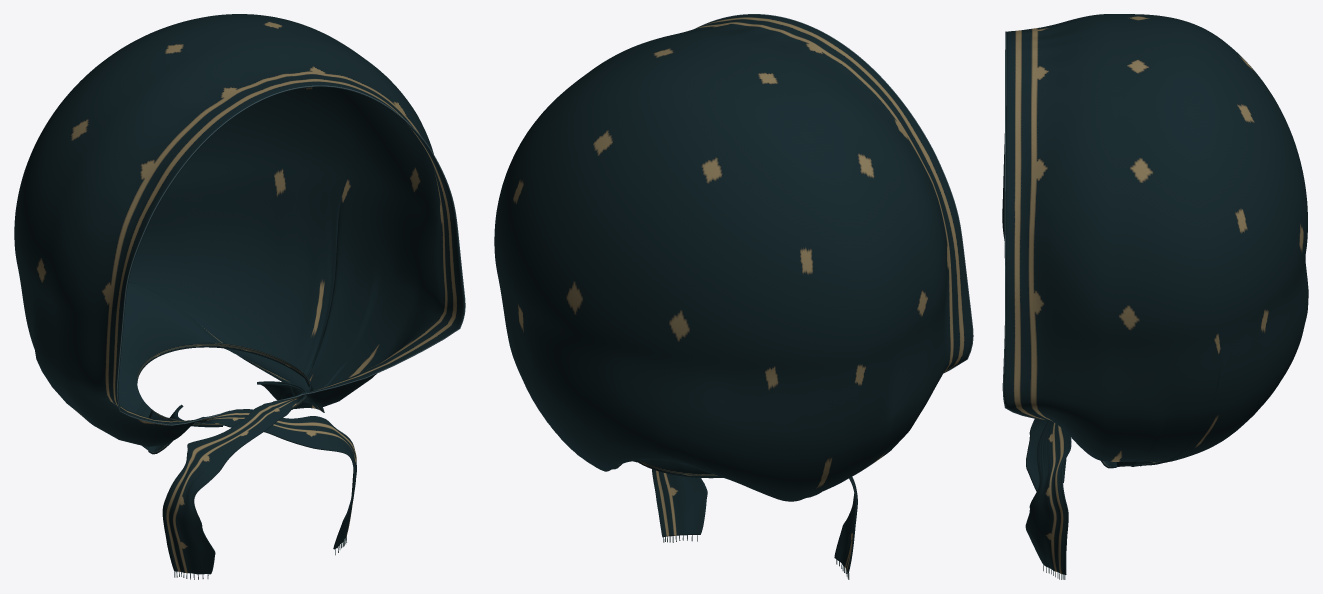
File: Feminine-ponytail-bandeau-pashmina250-headgear.glb
The picture shows the model from 3 angles, left to right: view 1: azimuth 30°, elevation 25°; view 2: azimuth 150°, elevation 25°; view 3: azimuth 270°, elevation 25°; orthographic projection. The views are drawn at different scales.
Parts seen in each view (by area): view 1: 226 headgear / Headwear / continuous woven pashmina239, 226 headgear / Headwear / face edge239; view 2: 226 headgear / Headwear / continuous woven pashmina239, 226 headgear / Headwear / face edge239; view 3: 226 headgear / Headwear / continuous woven pashmina239, 226 headgear / Headwear / face edge239.
Boxes of the visible parts, x1,y1,x2,y2 form: 226 headgear / Headwear / continuous woven pashmina239: (14,14,464,574); 226 headgear / Headwear / face edge239: (116,85,465,425); 226 headgear / Headwear / continuous woven pashmina239: (494,14,972,573); 226 headgear / Headwear / face edge239: (695,14,973,373); 226 headgear / Headwear / continuous woven pashmina239: (1002,14,1308,574); 226 headgear / Headwear / face edge239: (1002,31,1040,419).
Size of the model in its own units: 1.07 by 1.37 by 0.7569.
3 materials, 1 textured.
